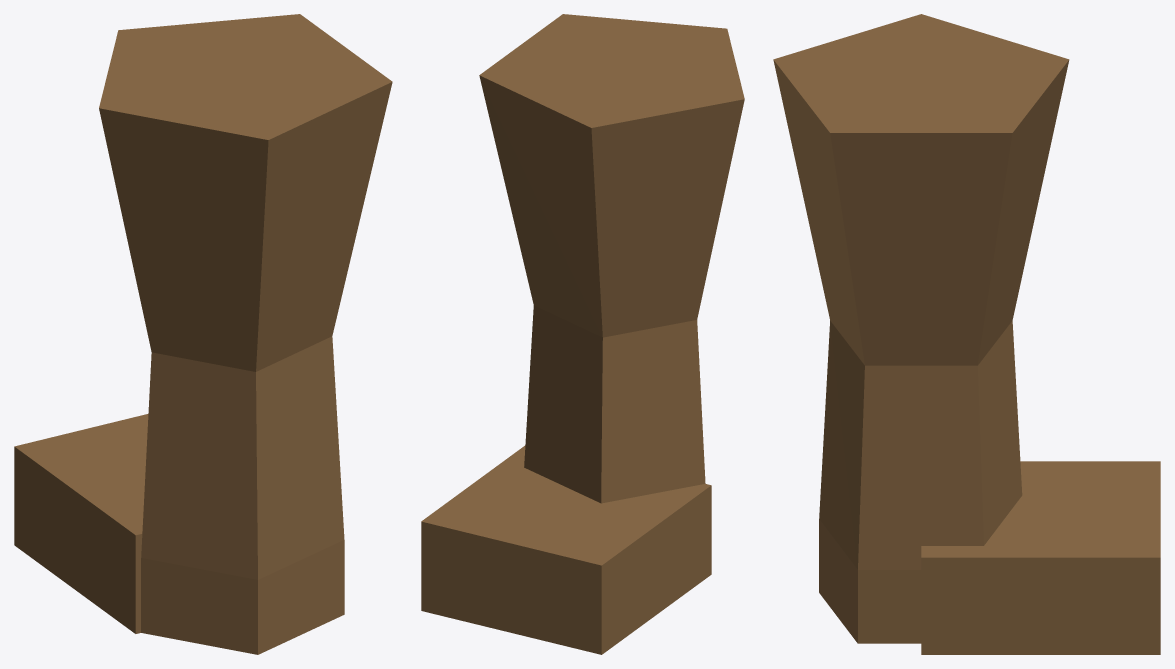
The model's file is animal_yorkie_leg.obj.
3 renders of one model, left to right at view 1: azimuth 30°, elevation 25°; view 2: azimuth 150°, elevation 25°; view 3: azimuth 270°, elevation 25°, orthographic. The views are drawn at different scales.
Parts seen in each view (by area): view 1: animal_yorkie_leg; view 2: animal_yorkie_leg; view 3: animal_yorkie_leg.
Part boxes in pixels (x1,y1,x2,y2): animal_yorkie_leg: [14, 14, 392, 654]; animal_yorkie_leg: [421, 14, 744, 654]; animal_yorkie_leg: [773, 14, 1160, 654].
Bounding box in the file's own units: 0.0639 × 0.132 × 0.0879.
